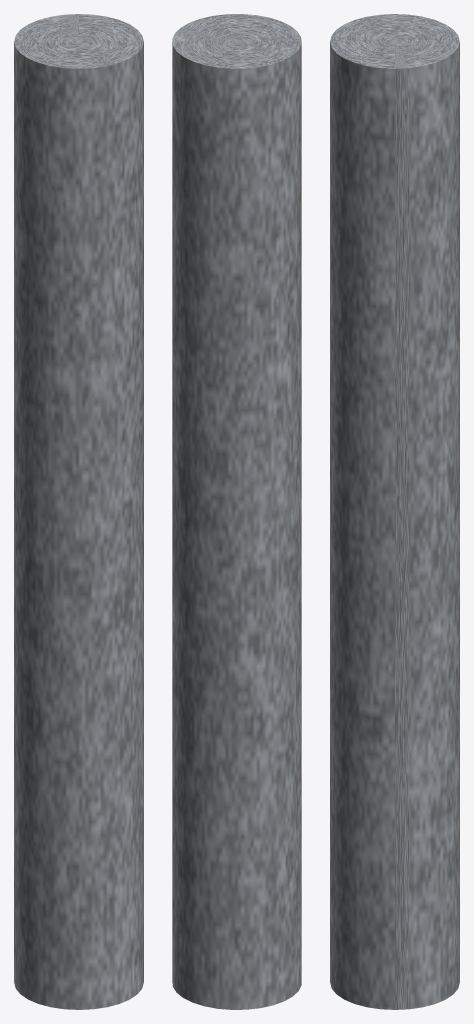
The model's file is axle_long.obj.
3 views of the same model, side by side, from view 1: azimuth 90°, elevation 25°; view 2: azimuth 150°, elevation 25°; view 3: azimuth 270°, elevation 25° (orthographic).
Bounding box in the file's own units: 0.03 × 0.24 × 0.03.
Materials: 1 (1 with a texture image).
